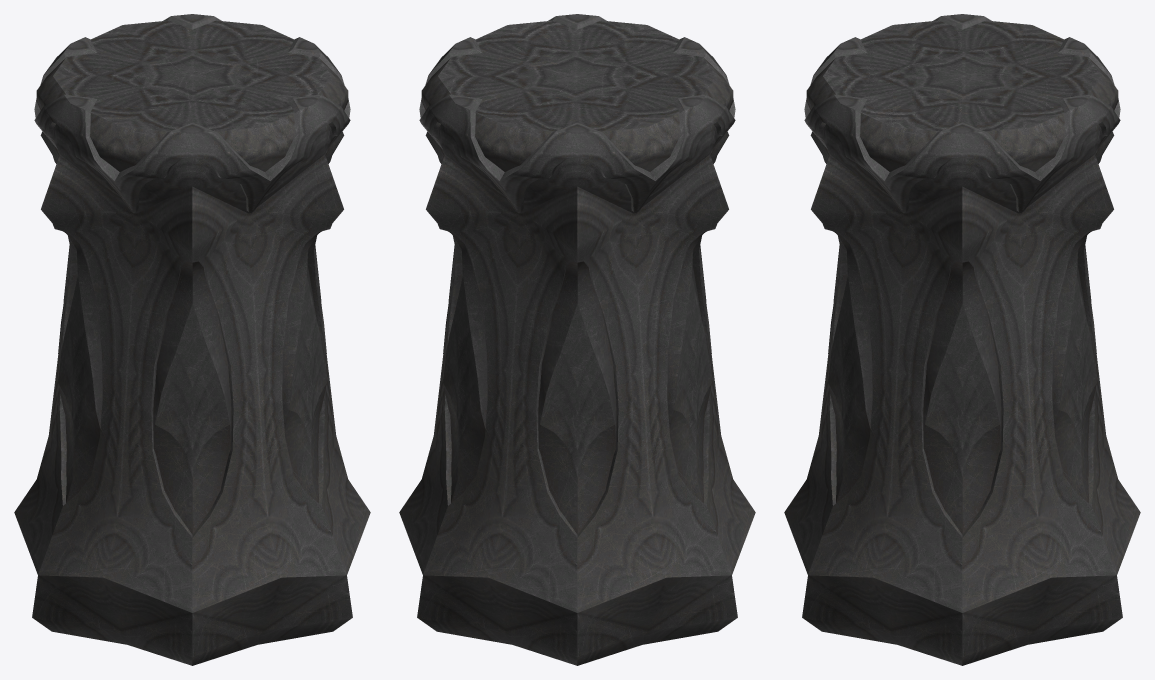
The model's file is bg_rad_kamen_pillar07b_sm.obj.
3 views of the same model, side by side, from view 1: azimuth 30°, elevation 25°; view 2: azimuth 150°, elevation 25°; view 3: azimuth 270°, elevation 25° (orthographic).
Parts seen in each view (by area): view 1: bg_rad_kamen_pillar07b_sm_0; view 2: bg_rad_kamen_pillar07b_sm_0; view 3: bg_rad_kamen_pillar07b_sm_0.
Part boxes in pixels (x1,y1,x2,y2): bg_rad_kamen_pillar07b_sm_0: (14, 14, 370, 665); bg_rad_kamen_pillar07b_sm_0: (399, 14, 755, 665); bg_rad_kamen_pillar07b_sm_0: (784, 14, 1140, 665).
Size of the model in its own units: 1.36 by 2.12 by 1.31.
1 material, 1 textured.
